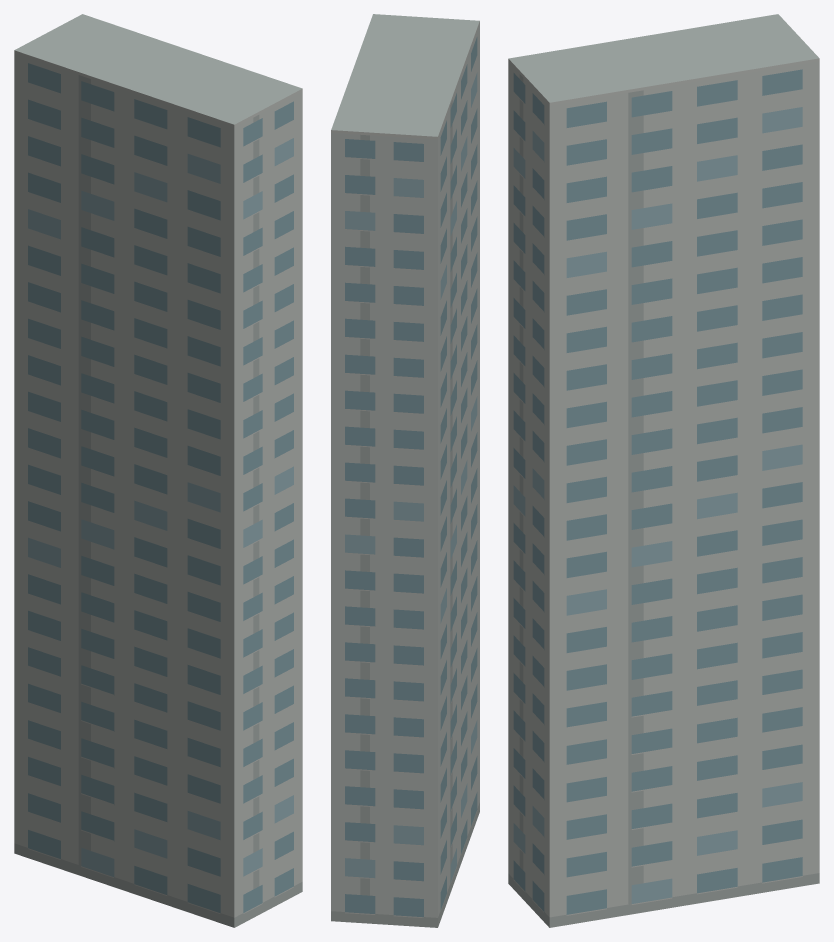
File: survey-upis-32930085.glb
The picture shows the model from 3 angles, left to right: view 1: azimuth 30°, elevation 25°; view 2: azimuth 150°, elevation 25°; view 3: azimuth 270°, elevation 25°; orthographic projection. The views are drawn at different scales.
Visible parts, largest first — view 1: survey-upis-32930085.tmp; view 2: survey-upis-32930085.tmp; view 3: survey-upis-32930085.tmp.
Boxes of the visible parts, x1,y1,x2,y2 form: survey-upis-32930085.tmp: [14, 14, 302, 927]; survey-upis-32930085.tmp: [331, 14, 479, 927]; survey-upis-32930085.tmp: [508, 14, 819, 927].
Size of the model in its own units: 15.5 by 67.1 by 22.94.
